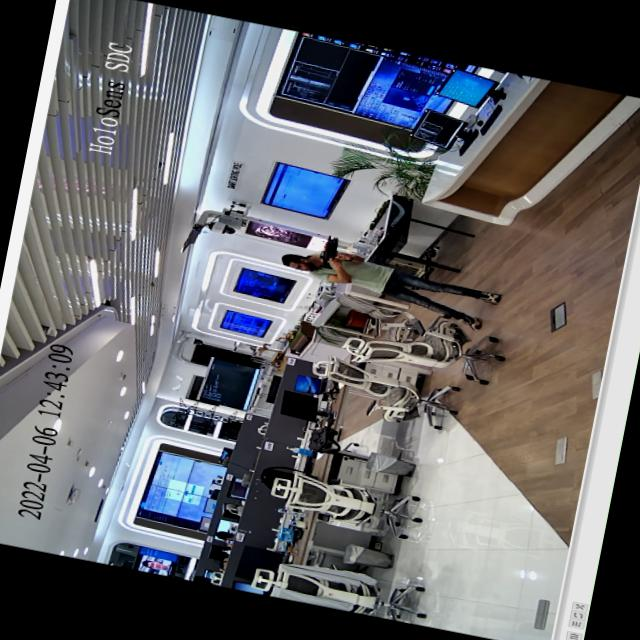long weapon: (316, 232, 349, 272)
